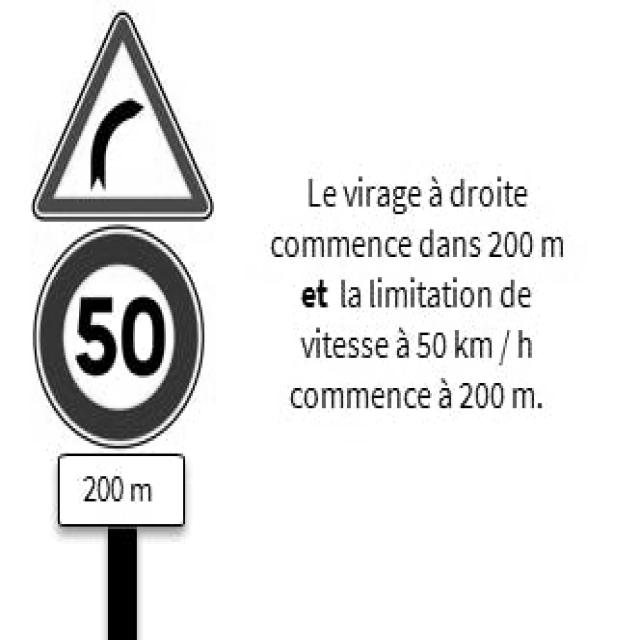speed_50: (31, 223, 206, 450)
turn_danger: (33, 12, 213, 219)
